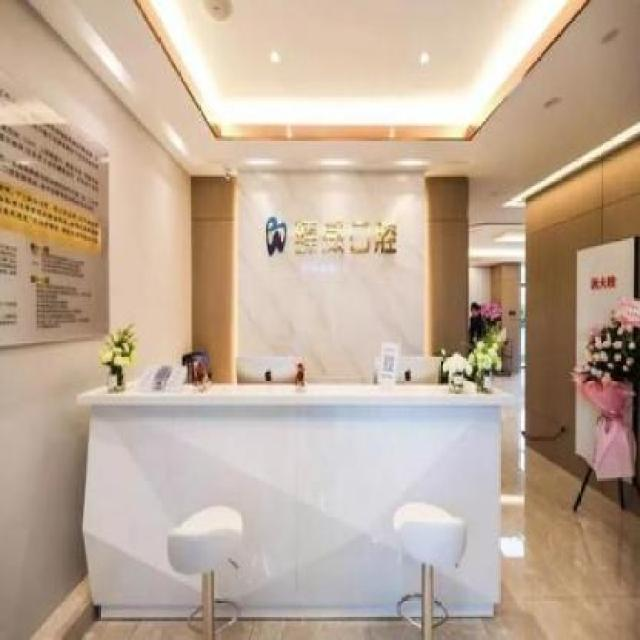frontdesk: (74, 360, 504, 631)
